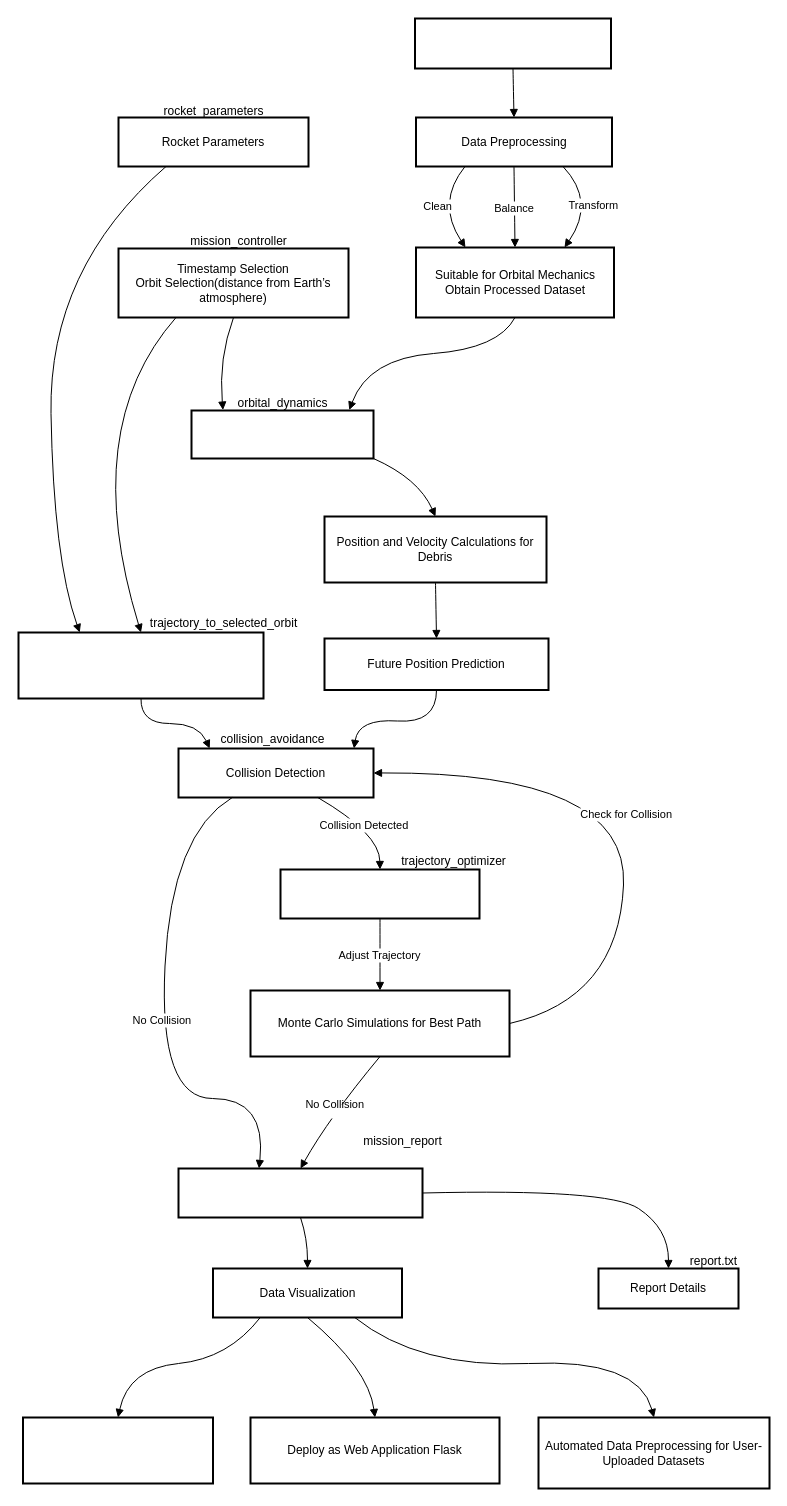
The diagram is 787 pixels wide and 1506 high, and some of its shapes have lost their labels. The centre of each missing label's shape, as x and y in pixels:
Calculate Orbital Mechanism: (x=282, y=434)
Deploy as Desktop Application PyQt: (x=118, y=1450)
Generate Detailed Report: (x=300, y=1192)
Route Optimization: (x=379, y=893)
TLEs Dataset from space-track.org: (x=513, y=43)
Trajectory Calculation for Rocket (Path to selected Orbit): (x=140, y=665)
